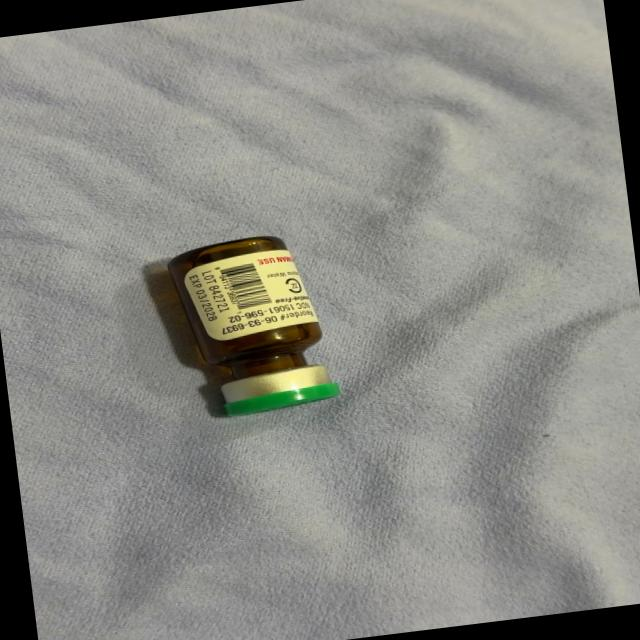midazolm: (168, 232, 338, 419)
